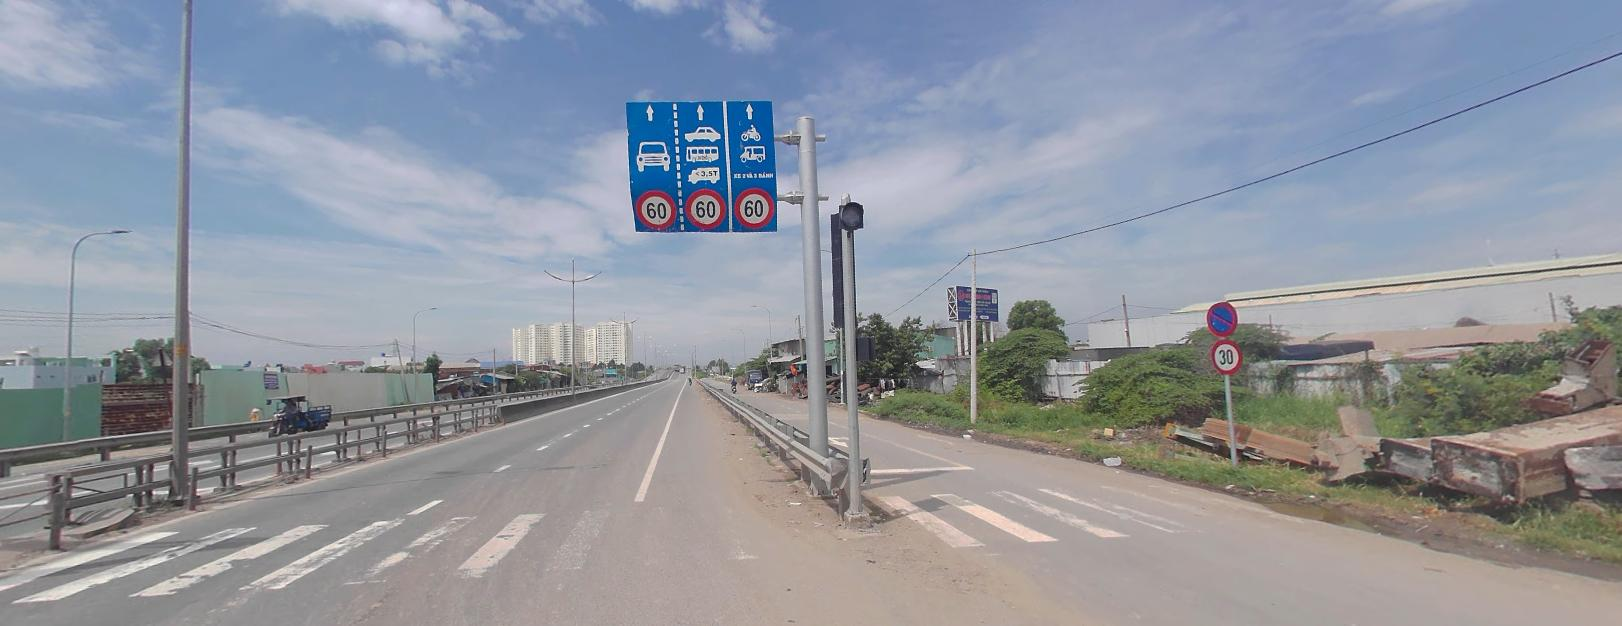Cam dung va do: (1205, 299, 1238, 335)
Gioi han toc do: (683, 186, 725, 227), (734, 184, 775, 226), (635, 189, 676, 227), (1209, 338, 1242, 372)
